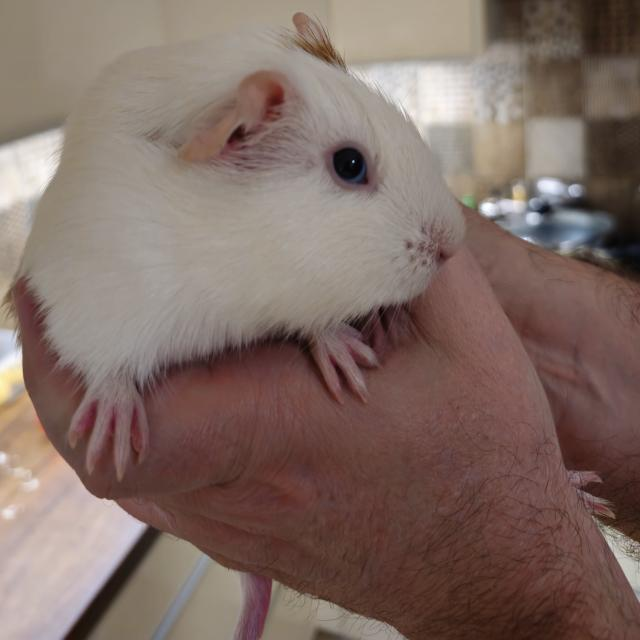guinea pig: (21, 31, 467, 387)
